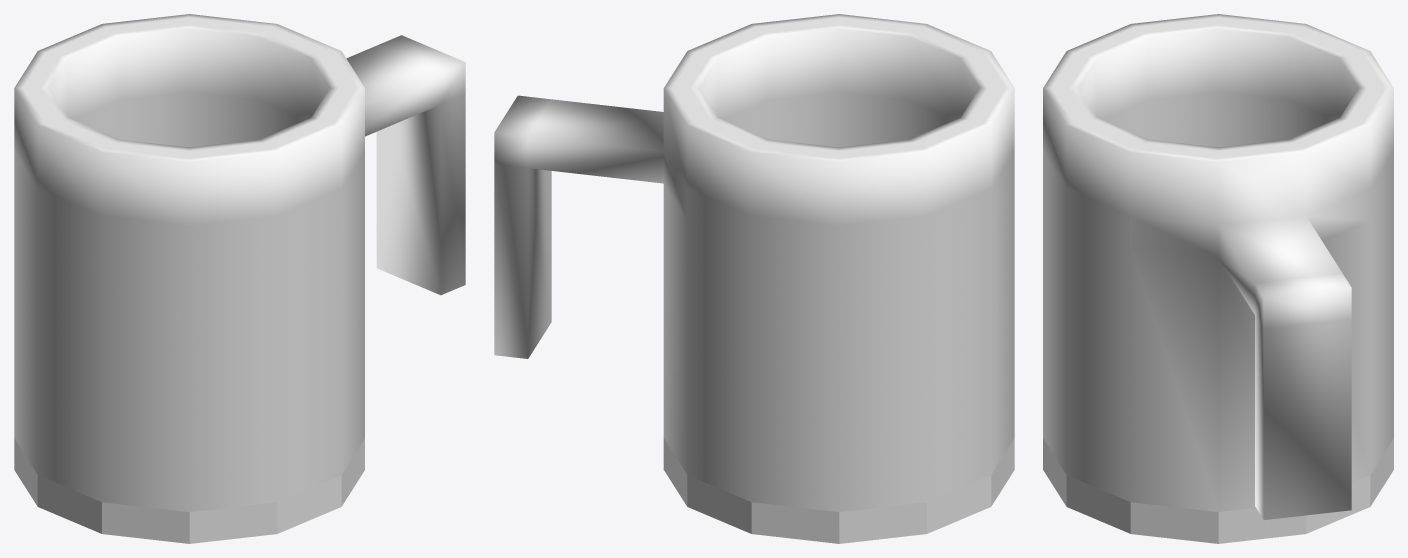
File: Type-0-Cup.obj
3 renders of one model, left to right at view 1: azimuth 30°, elevation 25°; view 2: azimuth 150°, elevation 25°; view 3: azimuth 270°, elevation 25°, orthographic.
Visible parts, largest first — view 1: Type-0-Cup; view 2: Type-0-Cup; view 3: Type-0-Cup.
Boxes of the visible parts, x1,y1,x2,y2 form: Type-0-Cup: (14, 14, 465, 543); Type-0-Cup: (494, 14, 1014, 543); Type-0-Cup: (1043, 14, 1393, 543).
Bounding box in the file's own units: 1.48 × 1.2 × 1.
